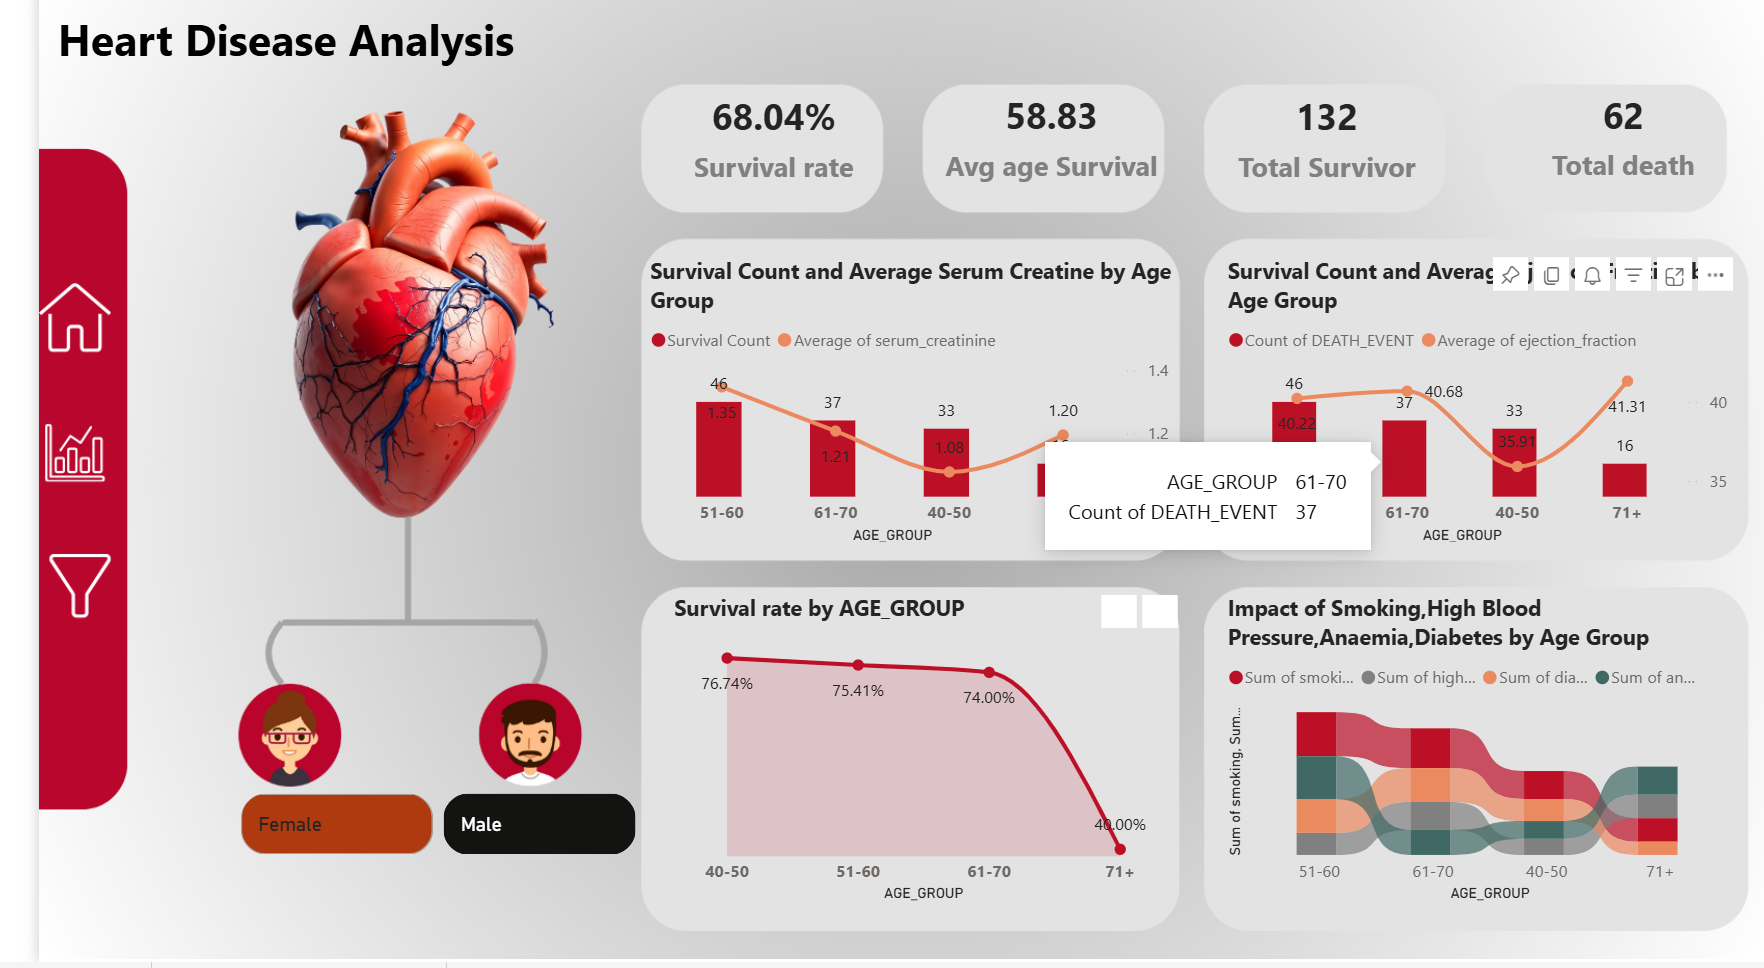

Layout of this report page (visuals, bound fields, positions):
{"tool":"powerbi","page":{"name":"Home","canvas":[1280,720],"ordinal":0},"visuals":[{"type":"textbox","box":[8.6,8.6,402.9,81.4],"z":0},{"type":"card","fields":{"Values":["heart_Disease_clinical_records_.Survival_rate"]},"box":[448.1,50,192.3,115.4],"z":1000},{"type":"card","fields":{"Values":["heart_Disease_clinical_records_.Avg_age_Survival"]},"box":[655.8,55.8,188.5,101.9],"z":2000},{"type":"card","fields":{"Values":["heart_Disease_clinical_records_.Tot_Surviour"]},"box":[776.9,63.5,353.8,88.5],"z":3000},{"type":"card","fields":{"Values":["heart_Disease_clinical_records_.Tot_death"]},"box":[1065.4,46.2,215.4,119.2],"z":4000},{"type":"lineClusteredColumnComboChart","title":"Survival Count and Average Serum Creatine by Age Group","fields":{"Category":["heart_Disease_clinical_records_.AGE_GROUP"],"Y":["CountNonNull(heart_Disease_clinical_records_.DEATH_EVENT)"],"Y2":["Avg(heart_Disease_clinical_records_.serum_creatinine)"]},"box":[448.1,196.2,396.2,217.3],"z":5000},{"type":"lineClusteredColumnComboChart","title":"Survival Count and Average Ejection Fraction by Age Group","fields":{"Category":["heart_Disease_clinical_records_.AGE_GROUP"],"Y":["CountNonNull(heart_Disease_clinical_records_.DEATH_EVENT)"],"Y2":["Avg(heart_Disease_clinical_records_.ejection_fraction)"]},"box":[875,196.2,380.8,217.3],"z":6000},{"type":"lineChart","fields":{"Category":["heart_Disease_clinical_records_.AGE_GROUP"],"Y":["heart_Disease_clinical_records_.Survival_rate"]},"box":[465.4,446.2,378.8,232.7],"z":7000},{"type":"ribbonChart","title":"Impact of Smoking,High Blood Pressure,Anaemia,Diabetes by Age Group","fields":{"Category":["heart_Disease_clinical_records_.AGE_GROUP"],"Y":["Sum(heart_Disease_clinical_records_.smoking)","Sum(heart_Disease_clinical_records_.high_blood_pressure)","Sum(heart_Disease_clinical_records_.diabetes)","Sum(heart_Disease_clinical_records_.anaemia)"]},"box":[875,446.2,380.8,232.7],"z":8000},{"type":"advancedSlicerVisual","fields":{"Values":["heart_Disease_clinical_records_.Gender"]},"box":[144.2,590.4,303.8,55.8],"z":9000},{"type":"pageNavigator","box":[0,180.3,68.9,346.3],"z":10000}]}

Visuals, with their boxes on the page's 1280x720 design canvas (x1, y1, x2, y2). These are canvas units, not pixel positions in the 1764x968 screenshot, which may show the page scaled, cropped or inside an application window:
textbox: box(9, 9, 412, 90)
card - heart_Disease_clinical_records_.Survival_rate: box(448, 50, 640, 165)
card - heart_Disease_clinical_records_.Avg_age_Survival: box(656, 56, 844, 158)
card - heart_Disease_clinical_records_.Tot_Surviour: box(777, 64, 1131, 152)
card - heart_Disease_clinical_records_.Tot_death: box(1065, 46, 1281, 165)
"Survival Count and Average Serum Creatine by Age Group" lineClusteredColumnComboChart: box(448, 196, 844, 414)
"Survival Count and Average Ejection Fraction by Age Group" lineClusteredColumnComboChart: box(875, 196, 1256, 414)
lineChart - heart_Disease_clinical_records_.AGE_GROUP x heart_Disease_clinical_records_.Survival_rate: box(465, 446, 844, 679)
"Impact of Smoking,High Blood Pressure,Anaemia,Diabetes by Age Group" ribbonChart: box(875, 446, 1256, 679)
advancedSlicerVisual - heart_Disease_clinical_records_.Gender: box(144, 590, 448, 646)
pageNavigator: box(0, 180, 69, 527)
